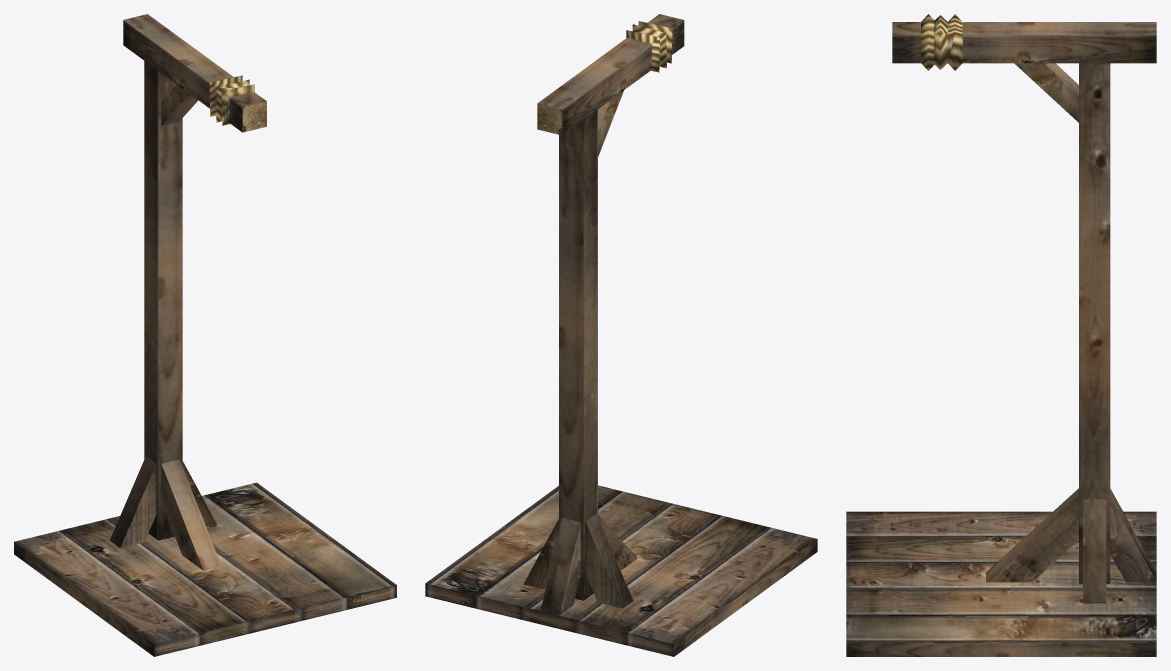
File: building_torture_gibbet.glb
3 renders of one model, left to right at view 1: azimuth 30°, elevation 25°; view 2: azimuth 150°, elevation 25°; view 3: azimuth 270°, elevation 25°, orthographic. The views are drawn at different scales.
Visible parts, largest first — view 1: building_torture_gibbet; view 2: building_torture_gibbet; view 3: building_torture_gibbet.
Part boxes in pixels (x1=…): building_torture_gibbet: x1=14, y1=14, x2=396, y2=656; building_torture_gibbet: x1=425, y1=14, x2=817, y2=656; building_torture_gibbet: x1=846, y1=14, x2=1156, y2=656.
Bounding box in the file's own units: 2.05 × 4.14 × 2.05.
2 materials, 2 textured.
